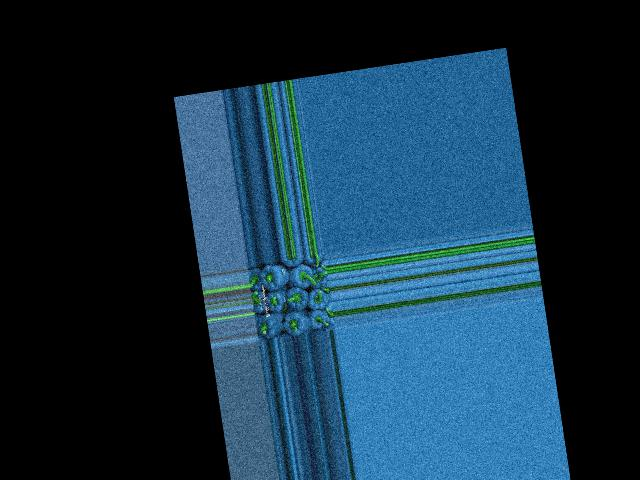bell_pepper: (246, 264, 266, 292)
